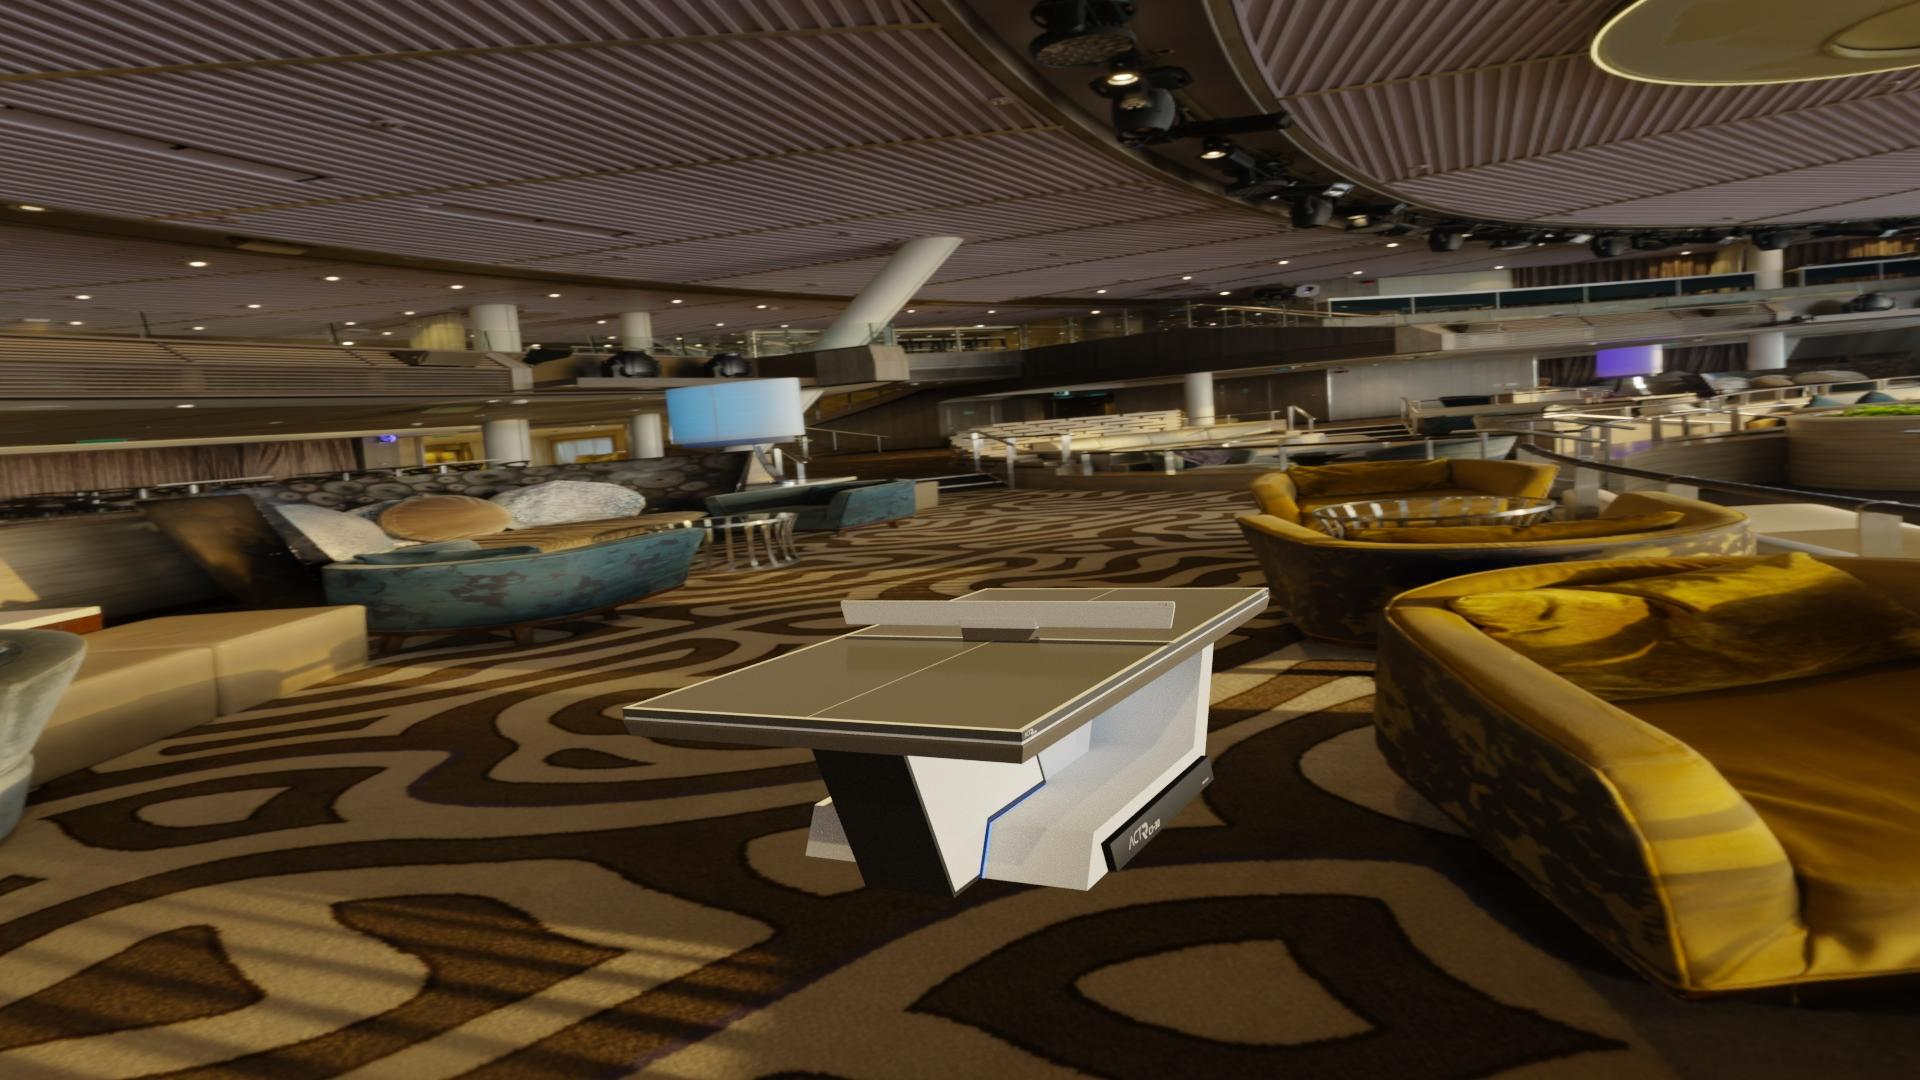table: (630, 588, 1263, 729)
